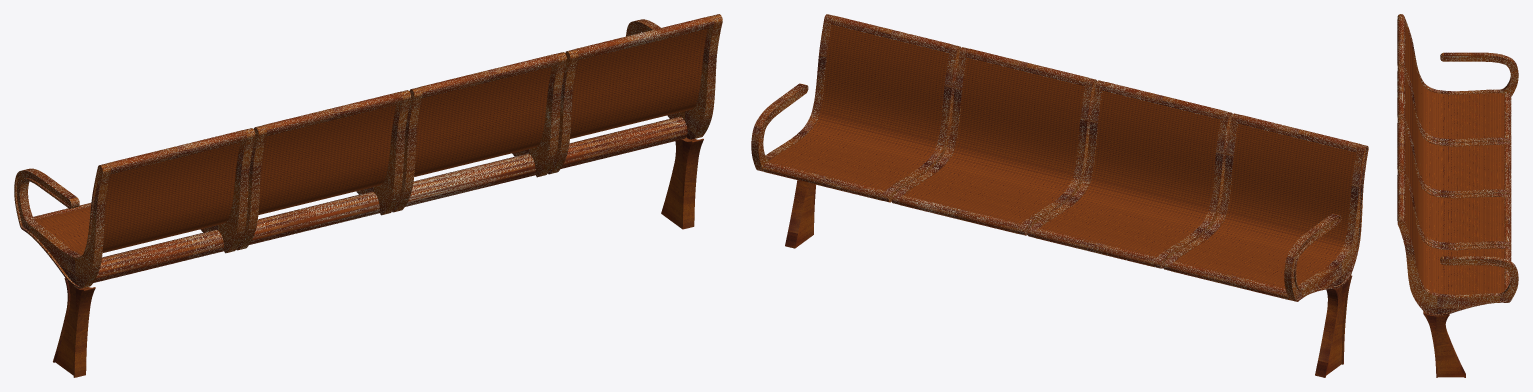
3 views of the same model, side by side, from view 1: azimuth 30°, elevation 25°; view 2: azimuth 150°, elevation 25°; view 3: azimuth 270°, elevation 25° (orthographic). The views are drawn at different scales.
Visible parts, largest first — view 1: mesh14_mesh14-geometry, mesh11_mesh11-geometry, mesh2_mesh2-geometry, mesh7_mesh7-geometry, mesh1_mesh1-geometry, mesh4_mesh4-geometry, mesh5_mesh5-geometry, mesh10_mesh10-geometry, mesh12_mesh12-geometry, mesh13_mesh13-geometry, mesh9_mesh9-geometry, mesh6_mesh6-geometry; view 2: mesh14_mesh14-geometry, mesh7_mesh7-geometry, mesh2_mesh2-geometry, mesh1_mesh1-geometry, mesh4_mesh4-geometry, mesh5_mesh5-geometry, mesh10_mesh10-geometry, mesh9_mesh9-geometry, mesh12_mesh12-geometry, mesh6_mesh6-geometry, mesh13_mesh13-geometry; view 3: mesh14_mesh14-geometry, mesh2_mesh2-geometry, mesh7_mesh7-geometry, mesh10_mesh10-geometry, mesh1_mesh1-geometry, mesh4_mesh4-geometry, mesh5_mesh5-geometry, mesh13_mesh13-geometry, mesh9_mesh9-geometry, mesh6_mesh6-geometry.
Boxes of the visible parts, x1,y1,x2,y2 form: mesh14_mesh14-geometry: (258,67,551,214); mesh11_mesh11-geometry: (93,116,687,282); mesh2_mesh2-geometry: (35,143,240,254); mesh7_mesh7-geometry: (570,29,707,138); mesh1_mesh1-geometry: (200,52,566,253); mesh4_mesh4-geometry: (33,54,558,219); mesh5_mesh5-geometry: (14,163,110,288); mesh10_mesh10-geometry: (626,14,722,139); mesh12_mesh12-geometry: (53,278,95,377); mesh13_mesh13-geometry: (661,137,703,229); mesh9_mesh9-geometry: (575,16,714,60); mesh6_mesh6-geometry: (548,49,578,174); mesh14_mesh14-geometry: (904,57,1220,256); mesh7_mesh7-geometry: (768,24,948,190); mesh2_mesh2-geometry: (1175,124,1356,288); mesh1_mesh1-geometry: (891,47,1240,270); mesh4_mesh4-geometry: (899,48,1359,300); mesh5_mesh5-geometry: (1284,144,1368,301); mesh10_mesh10-geometry: (751,14,833,171); mesh9_mesh9-geometry: (763,15,952,200); mesh12_mesh12-geometry: (1315,275,1352,377); mesh6_mesh6-geometry: (881,44,961,202); mesh13_mesh13-geometry: (785,180,815,248); mesh14_mesh14-geometry: (1405,76,1504,242); mesh2_mesh2-geometry: (1405,24,1504,139); mesh7_mesh7-geometry: (1405,180,1504,294); mesh10_mesh10-geometry: (1397,217,1518,315); mesh1_mesh1-geometry: (1397,62,1511,247); mesh4_mesh4-geometry: (1397,16,1511,243); mesh5_mesh5-geometry: (1397,14,1518,96); mesh13_mesh13-geometry: (1423,311,1465,377); mesh9_mesh9-geometry: (1397,172,1511,290); mesh6_mesh6-geometry: (1397,169,1511,250).
Size of the model in its own units: 0.9172 by 0.3272 by 0.2274.
